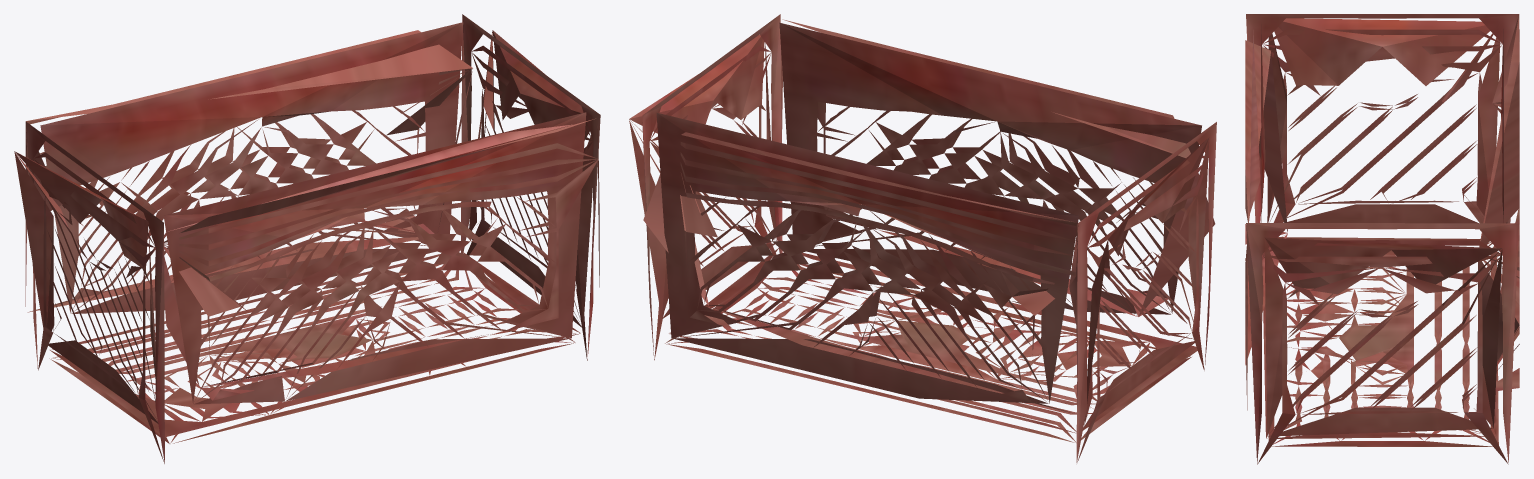
The model's file is plastic_crate_03.glb.
The picture shows the model from 3 angles, left to right: view 1: azimuth 30°, elevation 25°; view 2: azimuth 150°, elevation 25°; view 3: azimuth 270°, elevation 25°; orthographic projection.
Visible parts, largest first — view 1: plastic_crate_03; view 2: plastic_crate_03; view 3: plastic_crate_03.
Boxes of the visible parts, bbox=[...] form: plastic_crate_03: bbox=[14, 14, 600, 463]; plastic_crate_03: bbox=[629, 14, 1216, 462]; plastic_crate_03: bbox=[1245, 14, 1519, 464].
Size of the model in its own units: 0.4811 by 0.2394 by 0.2422.
1 material, 1 textured.
